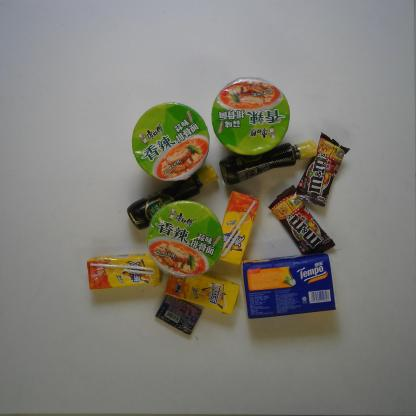Chocolate: (266, 183, 337, 256), (295, 131, 351, 209)
Drink: (161, 272, 242, 317), (215, 188, 261, 266), (85, 252, 163, 291)
Gum: (152, 293, 205, 337)
Instant Noodles: (210, 75, 292, 158), (130, 100, 211, 183), (144, 199, 225, 279)
Seasoner: (125, 162, 219, 232), (218, 138, 318, 186)
Tissue: (240, 250, 338, 320)
